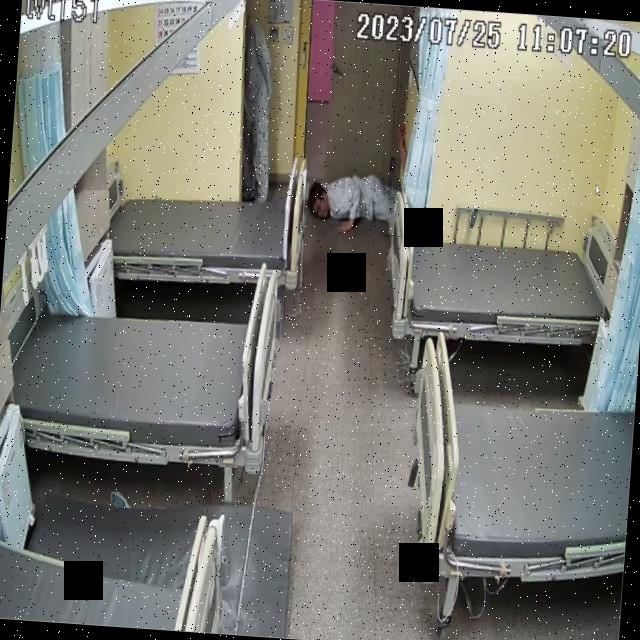bed: (402, 331, 639, 591), (5, 296, 278, 466), (381, 218, 623, 352), (108, 178, 303, 289)
fall: (314, 168, 404, 238)
patient: (234, 12, 282, 201), (309, 162, 404, 238)
stand: (234, 13, 282, 200)
